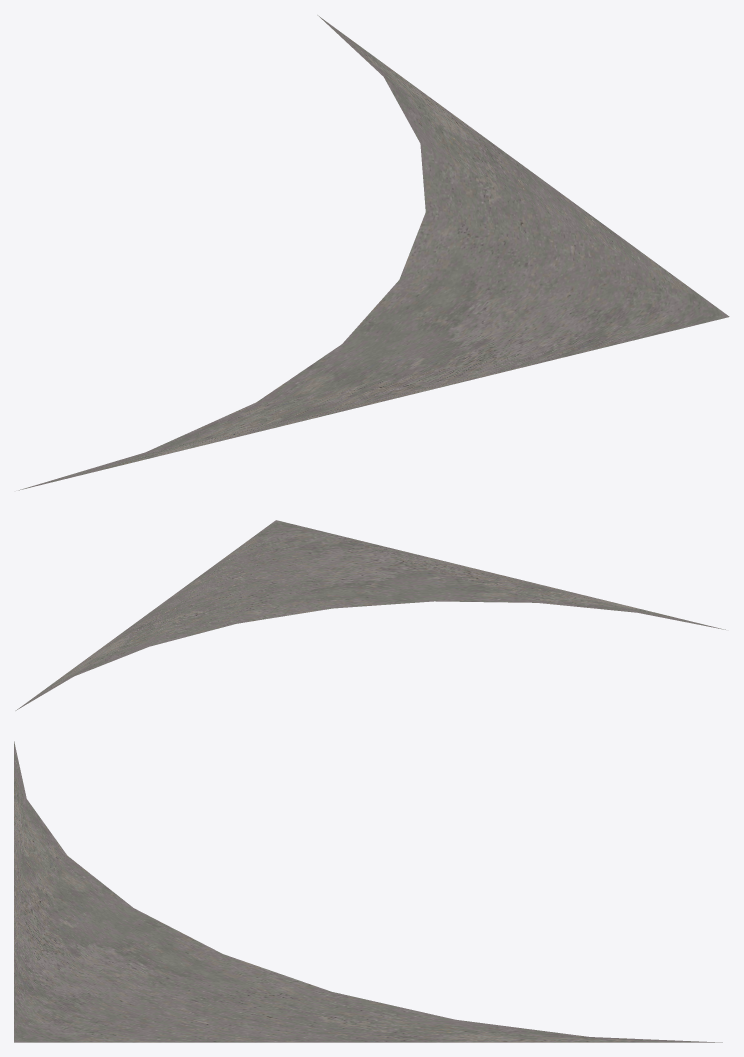
The model's file is pavement_corner_round_in_big002_concretefloors0041_5_m_dull_0_l.glb.
The picture shows the model from 3 angles, top to bottom: view 1: azimuth 30°, elevation 25°; view 2: azimuth 150°, elevation 25°; view 3: azimuth 270°, elevation 25°; orthographic projection. The views are drawn at different scales.
Visible parts, largest first — view 1: pavement_corner_round_in_big002_concretefloors0041_5_m_dull_; view 2: pavement_corner_round_in_big002_concretefloors0041_5_m_dull_; view 3: pavement_corner_round_in_big002_concretefloors0041_5_m_dull_.
Boxes of the visible parts, box(x1,y1,x2,y2) form: pavement_corner_round_in_big002_concretefloors0041_5_m_dull_: box(18, 15, 729, 490); pavement_corner_round_in_big002_concretefloors0041_5_m_dull_: box(15, 520, 725, 710); pavement_corner_round_in_big002_concretefloors0041_5_m_dull_: box(14, 741, 722, 1042).
Bounding box in the file's own units: 0.6852 × 4.04e-07 × 0.6852.
Materials: 1 (1 with a texture image).
